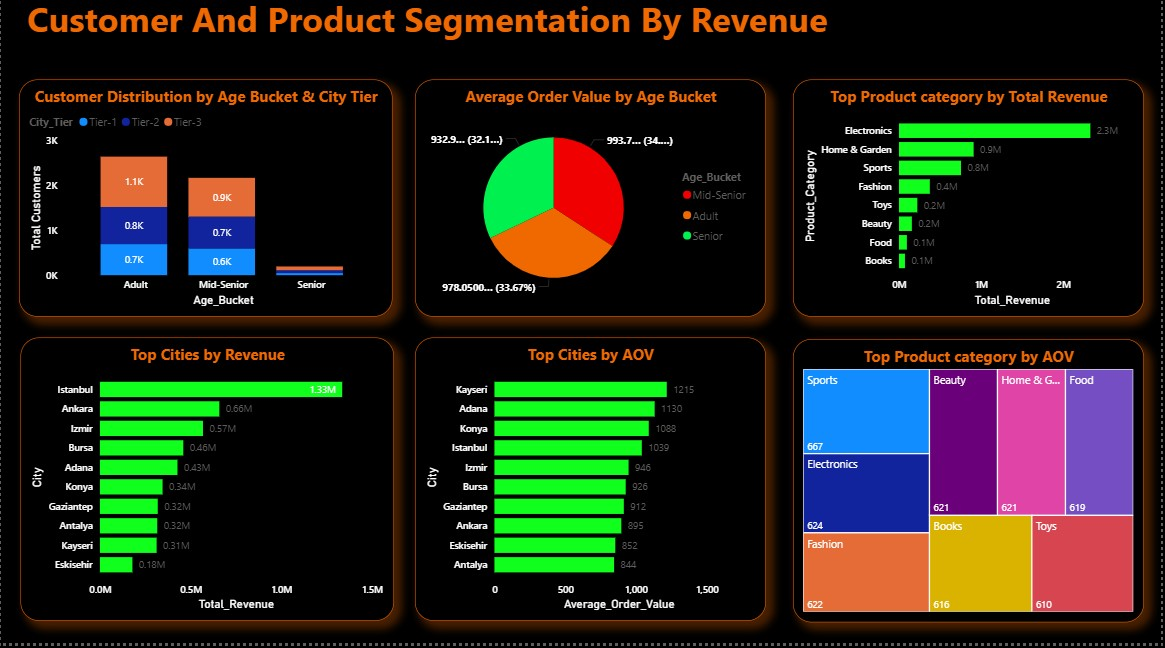

What the dashboard file says about the page in this screenshot:
{"tool":"powerbi","page":{"name":"Customer And Product Segmentation By Revenue and AOV","canvas":[1440,810],"ordinal":1},"visuals":[{"type":"textbox","box":[9.3,0,1052.9,87.6],"z":0},{"type":"columnChart","title":"Customer Distribution by Age Bucket & City Tier","fields":{"Category":["public customers.Age_Bucket"],"Y":["public customers.Total Customers"],"Series":["public customers.City_Tier"]},"box":[22.4,109.9,464,294.4],"z":1},{"type":"pieChart","title":"Average Order Value by Age Bucket","fields":{"Category":["public customers.Age_Bucket"],"Y":["public customers.Average_Order_Value"]},"box":[514.3,109.9,436.1,294.4],"z":2},{"type":"clusteredBarChart","title":"Top Cities by Revenue","fields":{"Category":["public customers.City"],"Y":["public customers.Total_Revenue"]},"box":[24.2,430.5,464,352.2],"z":4},{"type":"clusteredBarChart","title":"Top Cities by AOV","fields":{"Category":["public customers.City"],"Y":["public customers.Average_Order_Value"]},"box":[514.3,430.5,436.1,352.2],"z":5},{"type":"treemap","title":"Top Product category by AOV","fields":{"Group":["public customers.Product_Category"],"Values":["public customers.Total Orders"]},"box":[983.9,432.3,436.1,352.2],"z":6},{"type":"barChart","title":"Top Product category by Total Revenue","fields":{"Category":["public customers.Product_Category"],"Y":["public customers.Total_Revenue"]},"box":[983.9,109.9,436.1,294.4],"z":7}]}

Visuals, with their boxes in screenshot pixels (x1, y1, x2, y2), scaled from the page's 1440x810 canvas onto the 1165x648 screenshot:
textbox: (left=8, top=0, right=859, bottom=70)
"Customer Distribution by Age Bucket & City Tier" columnChart: (left=18, top=88, right=394, bottom=323)
"Average Order Value by Age Bucket" pieChart: (left=416, top=88, right=769, bottom=323)
"Top Cities by Revenue" clusteredBarChart: (left=20, top=344, right=395, bottom=626)
"Top Cities by AOV" clusteredBarChart: (left=416, top=344, right=769, bottom=626)
"Top Product category by AOV" treemap: (left=796, top=346, right=1149, bottom=628)
"Top Product category by Total Revenue" barChart: (left=796, top=88, right=1149, bottom=323)
